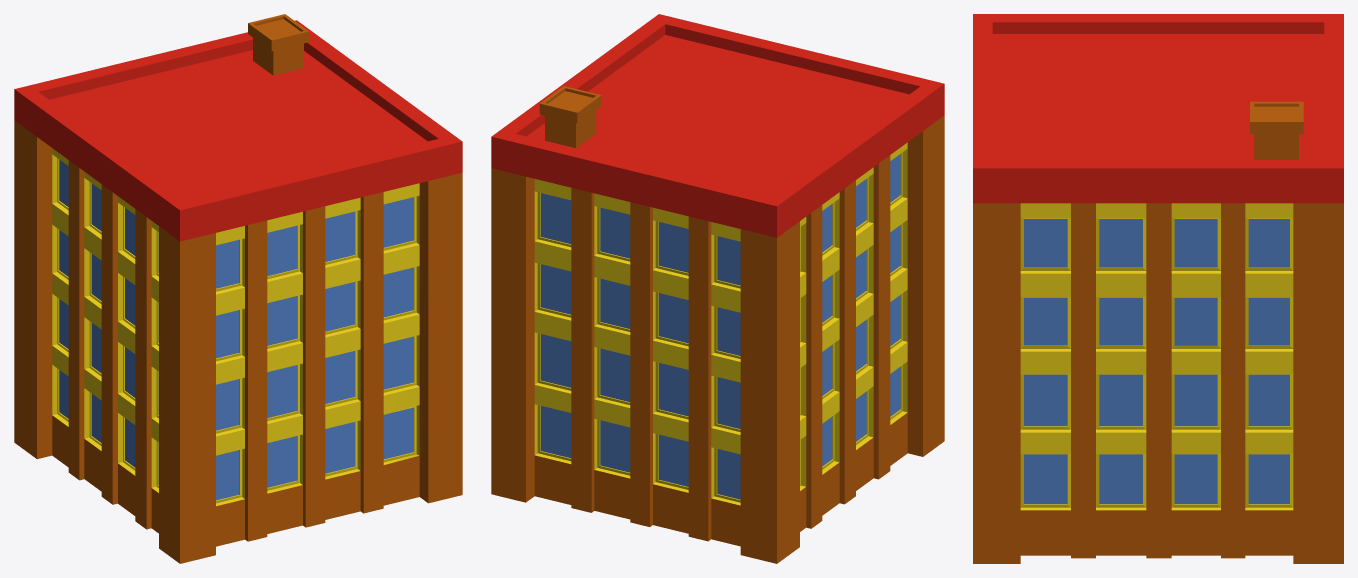
Rendered from building1.FBX.
3 renders of one model, left to right at view 1: azimuth 30°, elevation 25°; view 2: azimuth 150°, elevation 25°; view 3: azimuth 270°, elevation 25°, orthographic. The views are drawn at different scales.
Visible parts, largest first — view 1: Box001, Box002; view 2: Box001, Box002; view 3: Box001, Box002.
Boxes of the visible parts, x1,y1,x2,y2 form: Box001: [14, 20, 462, 563]; Box002: [248, 14, 308, 75]; Box001: [491, 14, 944, 563]; Box002: [539, 86, 601, 147]; Box001: [973, 14, 1343, 563]; Box002: [1250, 101, 1303, 159].
Size of the model in its own units: 56 by 72.06 by 56.91.
